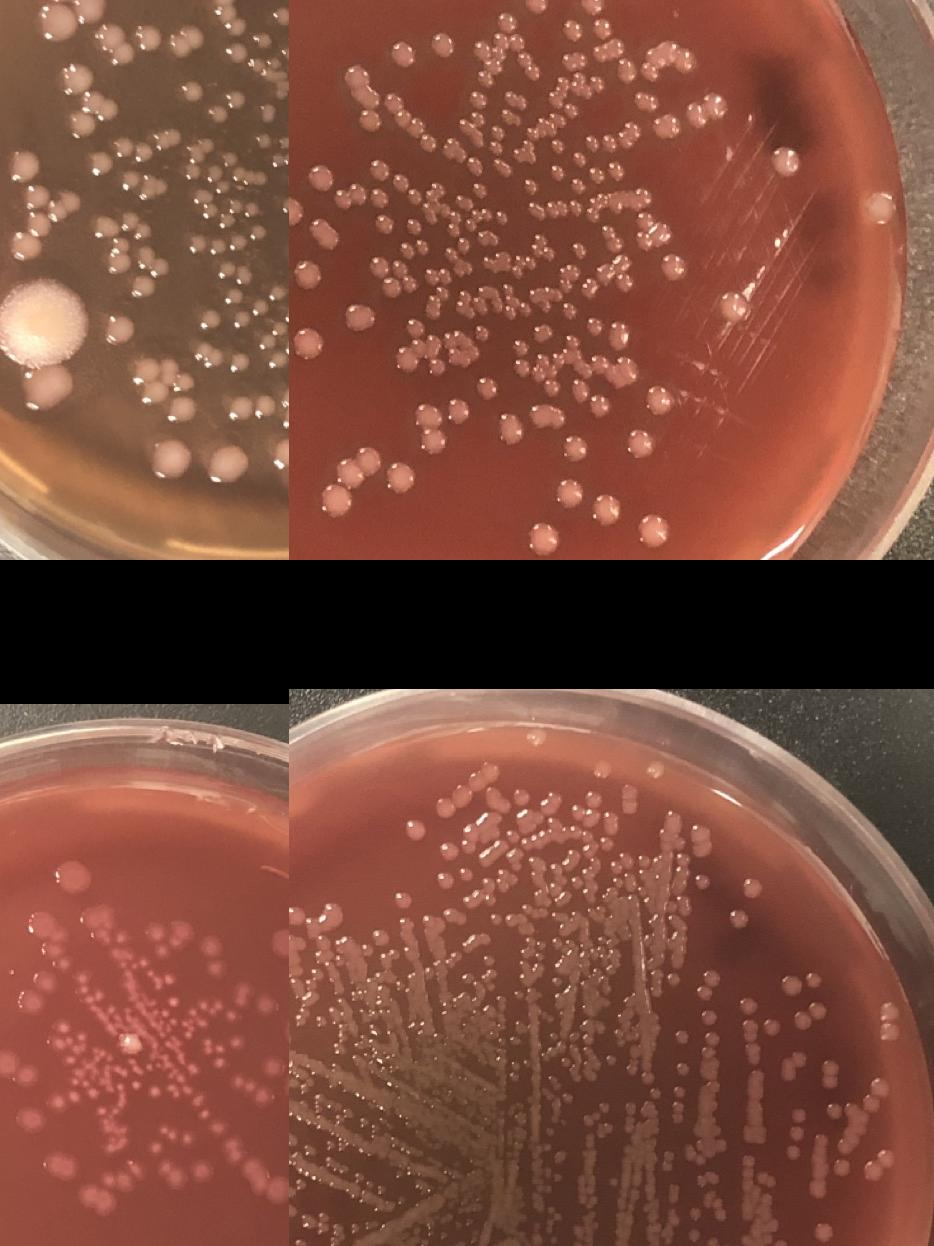pddamselae: (501, 262, 582, 321), (441, 206, 509, 276), (393, 316, 463, 374), (568, 120, 644, 169), (366, 239, 428, 298), (384, 94, 438, 154), (34, 0, 108, 42), (470, 34, 526, 87), (21, 363, 72, 415), (4, 212, 52, 266), (578, 254, 633, 297), (129, 244, 170, 301), (145, 436, 194, 482), (198, 196, 261, 231), (204, 441, 251, 487), (568, 160, 626, 196), (214, 258, 254, 308), (90, 211, 154, 242), (456, 88, 489, 148), (612, 48, 666, 83), (130, 355, 168, 404), (413, 404, 448, 457), (336, 447, 381, 488), (566, 378, 610, 418), (588, 16, 626, 62), (512, 231, 555, 271), (682, 94, 728, 130), (223, 392, 274, 424), (168, 371, 196, 427), (165, 23, 206, 60), (206, 89, 246, 125), (530, 351, 562, 396), (254, 330, 287, 372), (4, 148, 42, 184), (422, 268, 452, 312), (58, 62, 94, 97), (111, 134, 153, 164), (231, 296, 268, 330), (214, 1, 246, 38), (100, 312, 134, 346), (525, 404, 566, 431), (64, 108, 98, 140), (306, 217, 338, 251), (456, 284, 492, 314), (546, 92, 580, 122), (570, 73, 606, 101), (391, 174, 422, 206), (635, 224, 670, 250), (342, 62, 370, 92), (346, 304, 374, 334), (388, 40, 416, 70), (590, 496, 618, 526), (605, 322, 633, 351), (293, 332, 321, 360), (294, 262, 322, 290), (306, 164, 334, 192), (321, 487, 349, 515), (385, 466, 413, 494), (427, 32, 455, 60), (492, 418, 520, 446), (530, 527, 558, 555), (555, 481, 583, 509), (560, 436, 588, 464), (644, 388, 672, 416), (652, 114, 680, 142), (719, 294, 747, 322), (865, 195, 893, 223), (332, 187, 366, 210), (516, 53, 542, 82), (230, 167, 267, 187), (22, 184, 50, 210), (84, 149, 112, 175), (104, 250, 132, 276), (134, 25, 162, 51), (626, 432, 652, 460), (640, 518, 666, 546), (772, 146, 798, 174), (108, 43, 136, 68), (599, 224, 622, 253), (524, 200, 559, 219), (487, 124, 506, 158), (632, 90, 660, 112), (271, 436, 289, 468), (357, 108, 381, 132), (367, 160, 391, 184), (372, 212, 396, 236), (660, 260, 684, 284), (475, 376, 498, 400), (562, 20, 586, 43), (530, 322, 552, 346), (676, 51, 698, 75), (502, 92, 528, 112), (227, 352, 250, 374), (562, 52, 588, 71), (180, 81, 202, 103), (185, 234, 207, 256), (200, 310, 222, 332), (224, 42, 246, 64), (226, 231, 248, 252), (508, 360, 528, 380), (510, 338, 530, 358), (517, 178, 537, 198), (289, 198, 303, 226), (575, 0, 603, 14), (272, 5, 289, 28), (254, 131, 273, 151), (370, 189, 390, 208), (425, 357, 445, 376), (585, 318, 604, 338), (280, 388, 289, 430), (182, 162, 202, 180), (545, 164, 565, 182), (548, 136, 566, 156), (520, 0, 546, 13), (406, 220, 424, 238), (465, 157, 483, 175), (470, 182, 488, 200), (472, 325, 490, 343), (498, 13, 516, 31), (569, 242, 587, 260), (634, 212, 652, 230), (448, 404, 466, 421), (565, 199, 582, 217), (561, 301, 576, 321), (441, 142, 459, 158), (634, 188, 652, 204), (214, 179, 231, 195), (590, 356, 607, 372), (479, 254, 494, 272), (524, 125, 539, 143), (562, 335, 579, 350), (420, 201, 434, 217), (279, 196, 289, 216), (280, 304, 289, 326), (502, 282, 516, 296), (277, 134, 289, 150), (283, 174, 289, 190)
tmaritimum: (221, 1137, 289, 1203), (24, 910, 70, 970), (46, 1018, 88, 1065), (16, 970, 56, 1016), (142, 920, 184, 960), (116, 1032, 152, 1078), (95, 1065, 126, 1117), (0, 1046, 38, 1088), (78, 903, 116, 943), (268, 926, 289, 988), (54, 858, 90, 894), (77, 1184, 115, 1216), (42, 1152, 79, 1182), (200, 935, 224, 978), (66, 1067, 98, 1099), (100, 1118, 127, 1154), (200, 1037, 227, 1073), (155, 1158, 186, 1188), (44, 1091, 80, 1115), (155, 1126, 194, 1148), (184, 1000, 222, 1017), (116, 951, 148, 971), (18, 1108, 42, 1132), (254, 994, 278, 1018), (259, 1054, 283, 1078), (189, 1160, 212, 1184), (253, 1086, 276, 1110), (162, 1082, 194, 1098), (74, 969, 92, 995), (160, 994, 179, 1017), (92, 1047, 112, 1064), (113, 928, 131, 946), (116, 1175, 134, 1193), (146, 1138, 164, 1156), (209, 1119, 227, 1137), (227, 1032, 245, 1050), (227, 1070, 245, 1088), (124, 1158, 141, 1176), (280, 1014, 289, 1048), (280, 1068, 289, 1102), (84, 992, 106, 1004), (146, 1084, 162, 1100), (195, 1108, 212, 1122), (164, 1034, 178, 1050), (191, 1094, 206, 1108), (113, 1064, 126, 1078)
vangil: (434, 762, 499, 819), (438, 823, 480, 860), (598, 1210, 640, 1246), (289, 1161, 320, 1200), (358, 929, 389, 958), (793, 1002, 826, 1029), (864, 1150, 892, 1180), (696, 968, 720, 1002), (780, 1051, 806, 1082), (691, 824, 711, 858), (639, 1071, 661, 1100), (670, 1085, 685, 1126), (820, 1058, 839, 1089), (570, 877, 593, 900), (508, 1020, 525, 1049), (352, 1170, 374, 1192), (322, 905, 342, 926), (481, 787, 501, 808), (510, 786, 530, 807), (404, 821, 424, 841), (435, 871, 455, 891), (538, 798, 558, 818), (583, 791, 603, 811), (592, 760, 612, 780), (754, 1172, 776, 1190), (649, 968, 662, 998), (393, 891, 412, 911), (644, 760, 663, 780), (662, 812, 682, 830), (597, 836, 615, 854), (704, 1030, 722, 1048), (729, 910, 747, 928), (870, 1078, 888, 1096), (880, 1004, 898, 1022), (880, 1024, 898, 1042), (441, 907, 459, 924), (695, 873, 712, 891), (738, 999, 756, 1016), (742, 880, 759, 897), (661, 1149, 673, 1173), (664, 972, 682, 988), (782, 978, 800, 994), (816, 1225, 833, 1241), (833, 1159, 850, 1175), (376, 951, 394, 966), (332, 1042, 348, 1058), (674, 1030, 690, 1046), (674, 1062, 690, 1078), (700, 1009, 716, 1025), (740, 1019, 757, 1034), (784, 1145, 801, 1160), (805, 973, 822, 988), (612, 1030, 626, 1048), (289, 906, 301, 926), (312, 1015, 327, 1031), (826, 1104, 841, 1120), (615, 1200, 634, 1212), (316, 936, 330, 952), (790, 1107, 804, 1123), (790, 1127, 804, 1143), (810, 1181, 824, 1197), (864, 1096, 878, 1112), (764, 1019, 778, 1034), (342, 1181, 356, 1195), (489, 912, 503, 926), (503, 914, 517, 928), (548, 863, 562, 877), (548, 936, 562, 950), (622, 1102, 636, 1116), (567, 848, 580, 862), (581, 1114, 594, 1128), (332, 1222, 344, 1236), (348, 1222, 360, 1236), (373, 1199, 385, 1213), (460, 971, 472, 985), (482, 952, 494, 966), (512, 988, 524, 1002), (557, 923, 569, 937), (604, 1054, 618, 1066), (688, 1227, 700, 1241), (689, 1206, 701, 1220), (694, 1154, 706, 1168), (716, 1138, 728, 1152), (527, 856, 540, 868), (376, 1182, 387, 1196), (598, 1102, 610, 1114), (602, 1122, 614, 1134), (772, 1238, 790, 1246), (289, 1131, 297, 1148), (289, 1031, 293, 1047)
